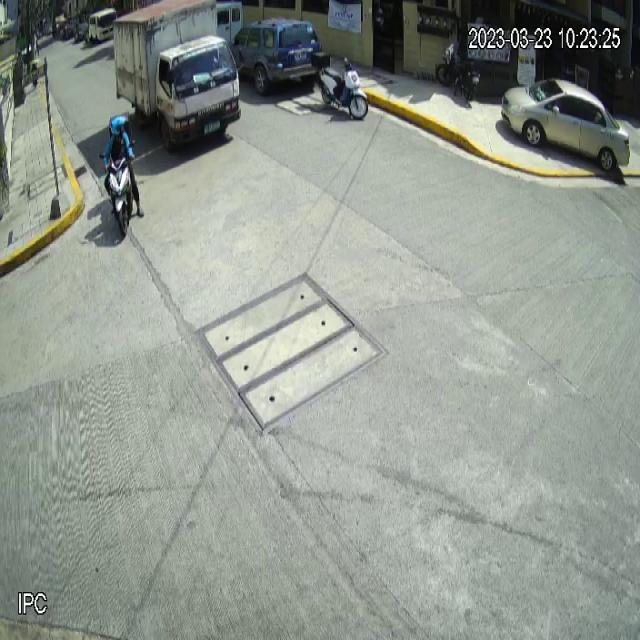Car: (501, 75, 632, 172)
Motorcycle: (311, 48, 369, 120), (100, 138, 140, 235)
Truck: (111, 0, 242, 155)
